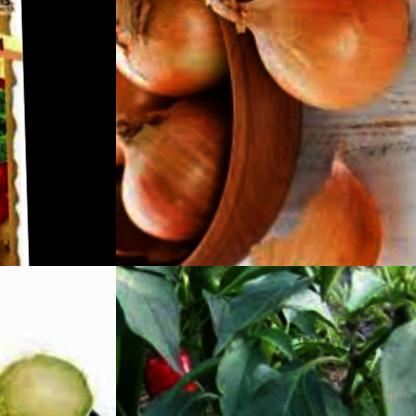broccoli: (0, 343, 116, 416)
hot pepper: (138, 330, 213, 416), (116, 294, 160, 416)
onion: (208, 0, 416, 118), (116, 98, 235, 243), (116, 0, 216, 91), (116, 36, 167, 171)
